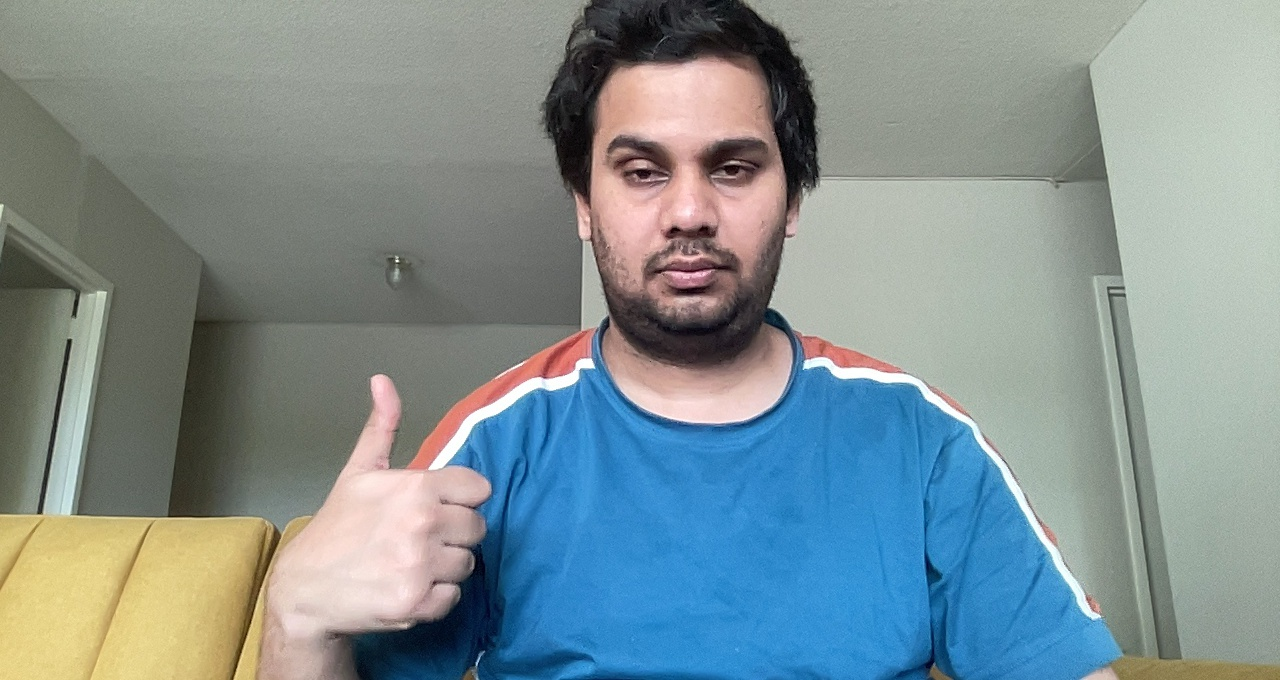thumbsup: (314, 365, 506, 628)
